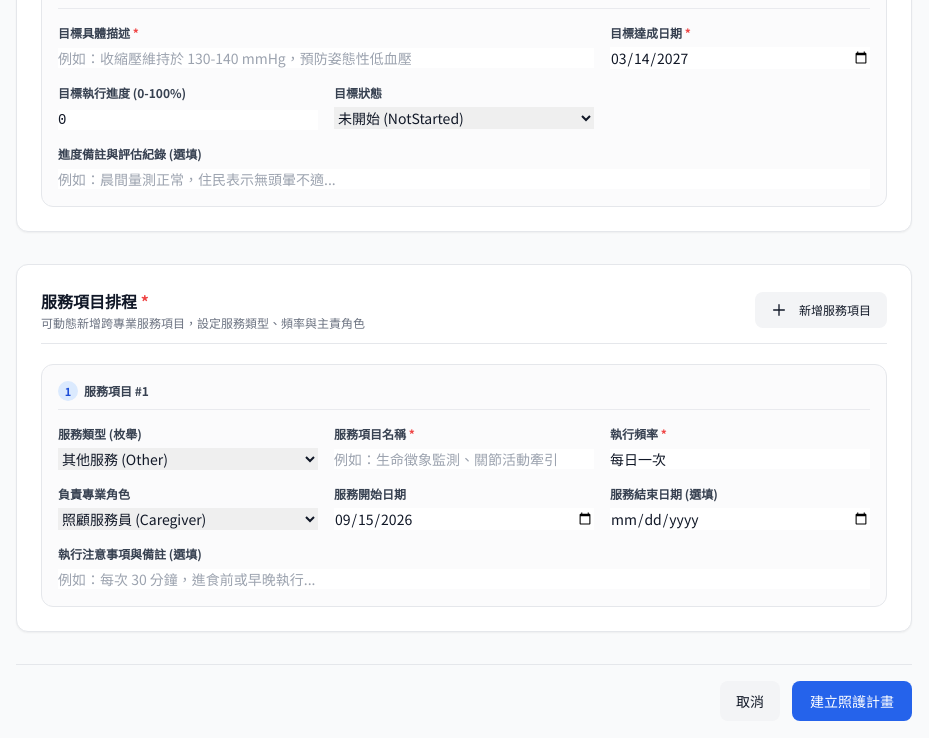
Scenario: CarePlanFormPage › validates required fields on submit when empty
(page scrolled)
Click the button "建立照護計畫".
click(852, 701)  # box 792,681 -> 912,721
(page scrolled)
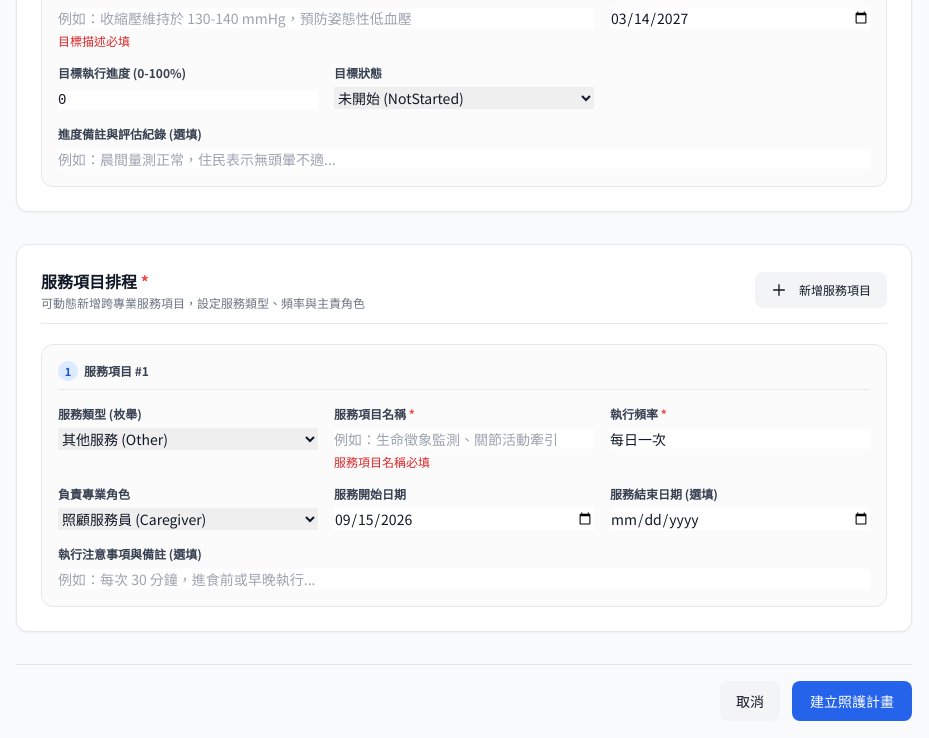
Now the text "目標描述必填" is shown, box 58,32 -> 130,49
Now the text "服務項目名稱必填" is shown, box 334,453 -> 430,470
